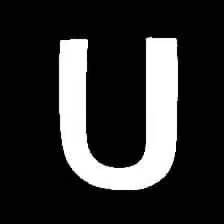LTR_U: (42, 19, 191, 196)
